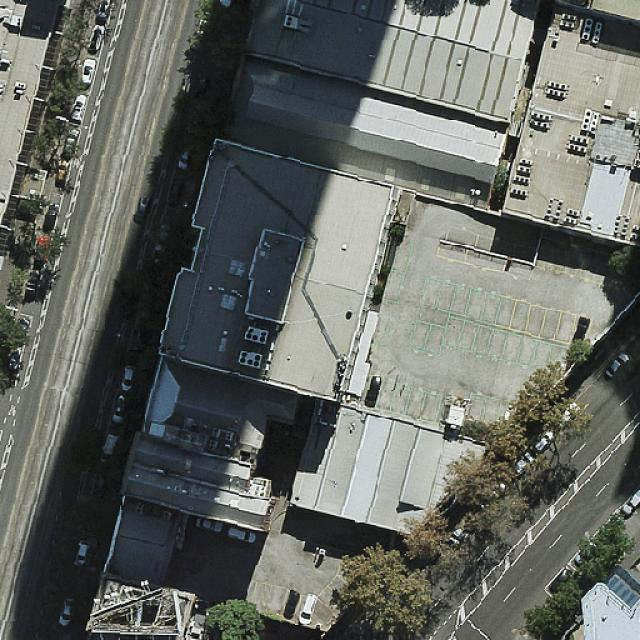Bike-Symbols: (8, 404, 17, 416), (72, 158, 80, 170)
